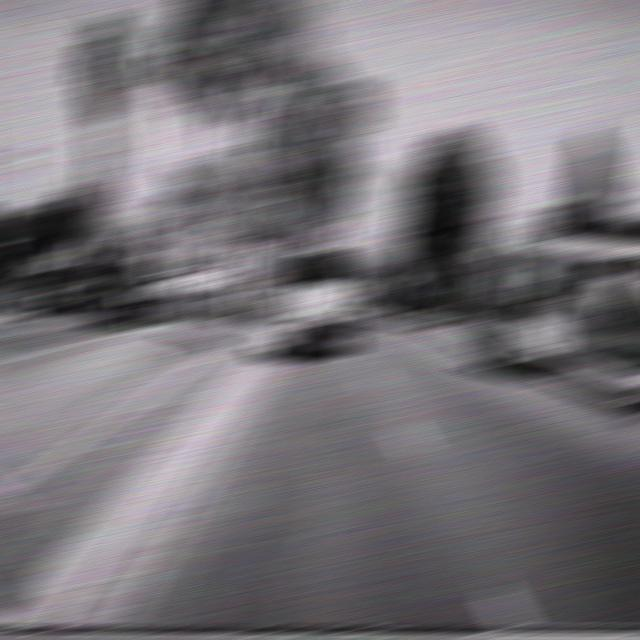speedLimit35: (530, 201, 564, 245)
